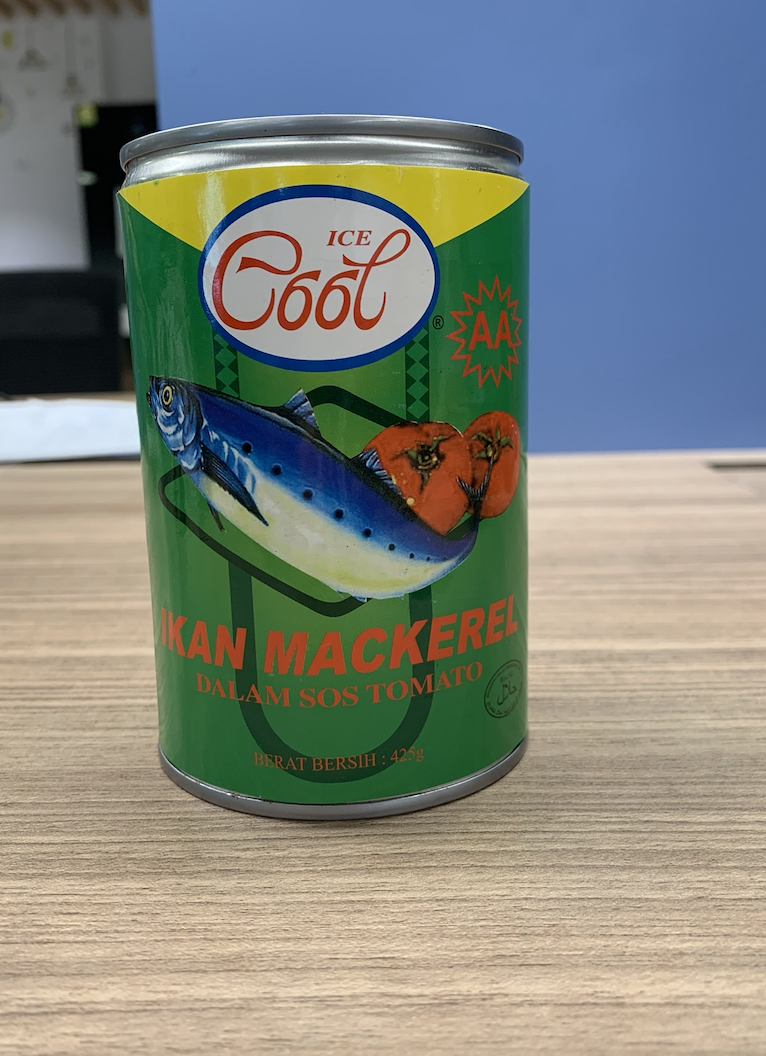sardines_400g-499g: (157, 188, 523, 775)
